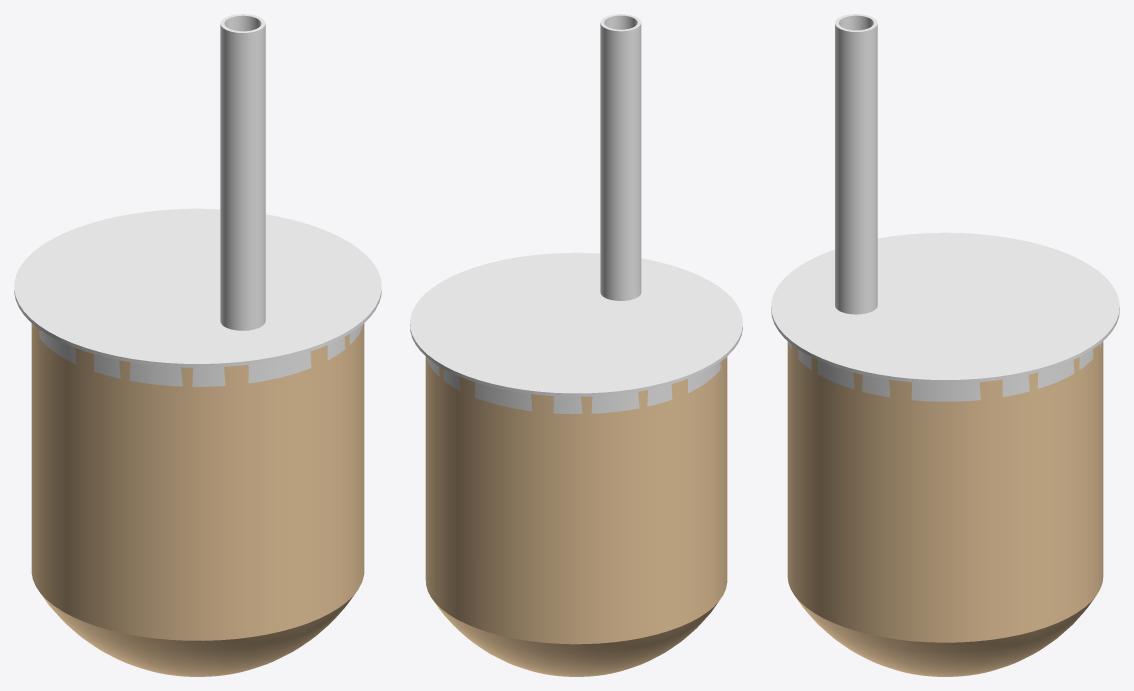
3 views of the same model, side by side, from view 1: azimuth 30°, elevation 25°; view 2: azimuth 150°, elevation 25°; view 3: azimuth 270°, elevation 25° (orthographic). The views are drawn at different scales.
Visible parts, largest first — view 1: body, lid_edge, tube; view 2: body, lid_edge, tube; view 3: body, lid_edge, tube.
Part boxes in pixels (x1,y1,x2,y2): body: (31,323,364,676); lid_edge: (14,208,381,386); tube: (220,14,265,330); body: (425,356,727,676); lid_edge: (410,252,742,414); tube: (600,14,641,300); body: (787,341,1103,676); lid_edge: (771,232,1119,401); tube: (835,14,877,314).
Size of the model in its own units: 0.0894 by 0.18 by 0.0894.
